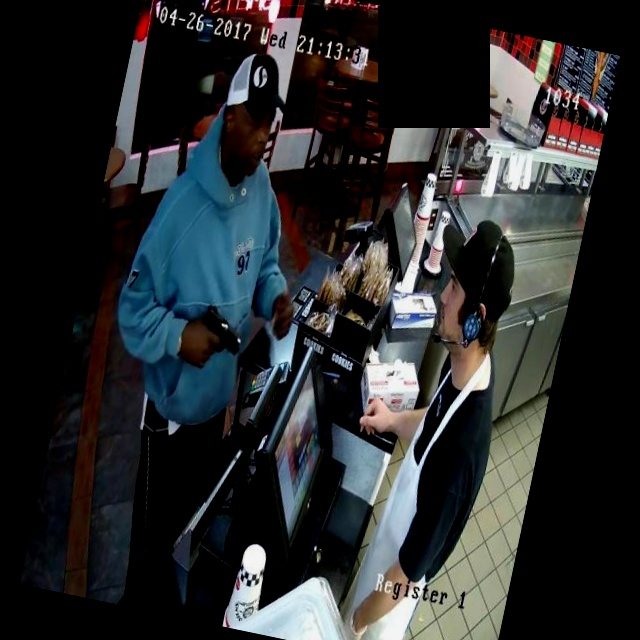gun: (177, 287, 259, 372)
